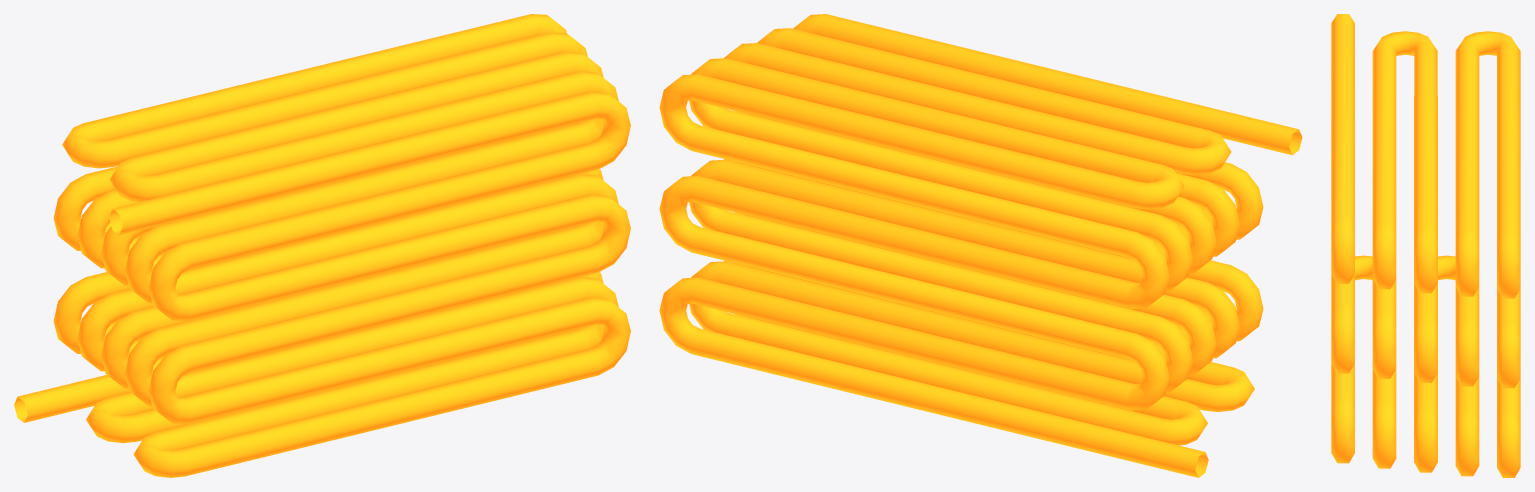
File: Radiator.glb
The picture shows the model from 3 angles, left to right: view 1: azimuth 30°, elevation 25°; view 2: azimuth 150°, elevation 25°; view 3: azimuth 270°, elevation 25°; orthographic projection. The views are drawn at different scales.
Parts seen in each view (by area): view 1: Misc_Heater.002; view 2: Misc_Heater.002; view 3: Misc_Heater.002.
Part boxes in pixels (x1,y1,x2,y2): Misc_Heater.002: (14,14,630,477); Misc_Heater.002: (659,14,1302,477); Misc_Heater.002: (1331,14,1520,477).
Bounding box in the file's own units: 0.5554 × 0.2709 × 0.1913.
